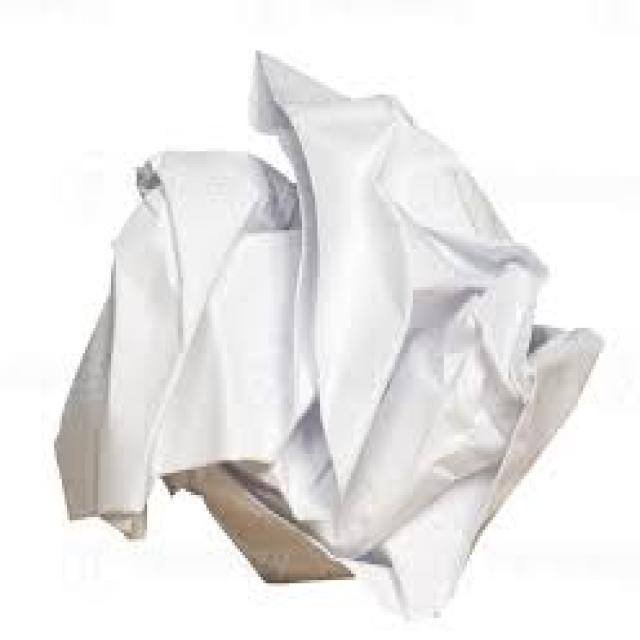crampled paper: (56, 53, 600, 612)
